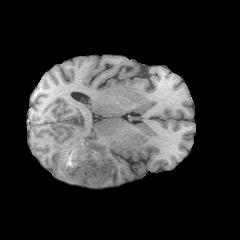glioma: (53, 136, 109, 187)
